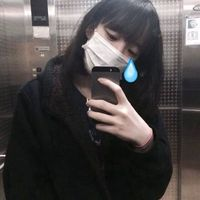face_mask: (86, 21, 142, 81)
